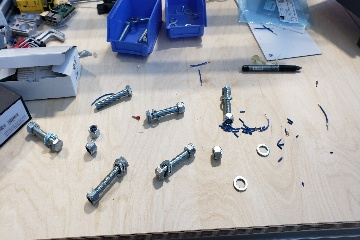Bolt: (93, 81, 134, 112)
FalseAssembly: (143, 96, 188, 126), (219, 82, 237, 126)
FinishedAssembly: (83, 154, 132, 205), (22, 116, 68, 161), (151, 142, 199, 182)
Nut: (82, 139, 98, 156), (211, 143, 224, 161), (87, 124, 101, 140)
Washer: (230, 173, 253, 195), (256, 142, 271, 157)
